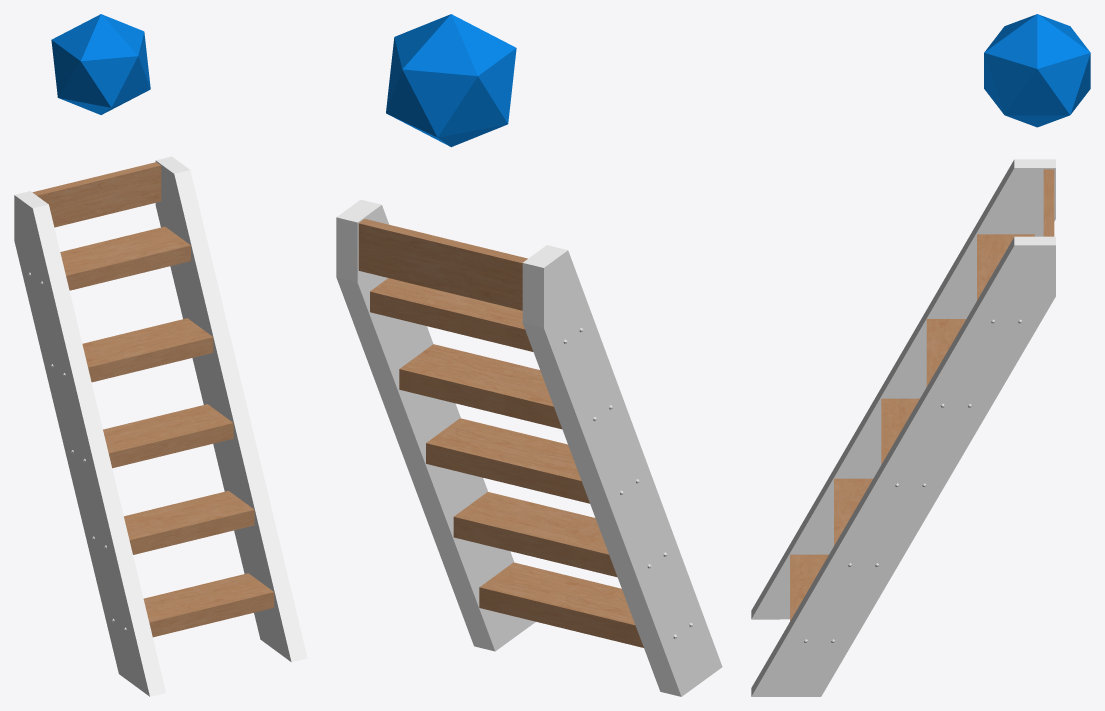
Rendered from Ladder 4'.glb.
3 views of the same model, side by side, from view 1: azimuth 30°, elevation 25°; view 2: azimuth 150°, elevation 25°; view 3: azimuth 270°, elevation 25° (orthographic). The views are drawn at different scales.
Visible parts, largest first — view 1: Cube.110, Joint.043; view 2: Cube.110, Joint.043; view 3: Cube.110, Joint.043.
Part boxes in pixels (x1=…): Cube.110: x1=14, y1=156, x2=307, y2=696; Joint.043: x1=51, y1=14, x2=150, y2=114; Cube.110: x1=336, y1=199, x2=722, y2=696; Joint.043: x1=386, y1=14, x2=516, y2=147; Cube.110: x1=751, y1=159, x2=1055, y2=696; Joint.043: x1=984, y1=14, x2=1090, y2=127.
Bounding box in the file's own units: 0.5082 × 1.72 × 0.8257.
Materials: 4 (1 with a texture image).
